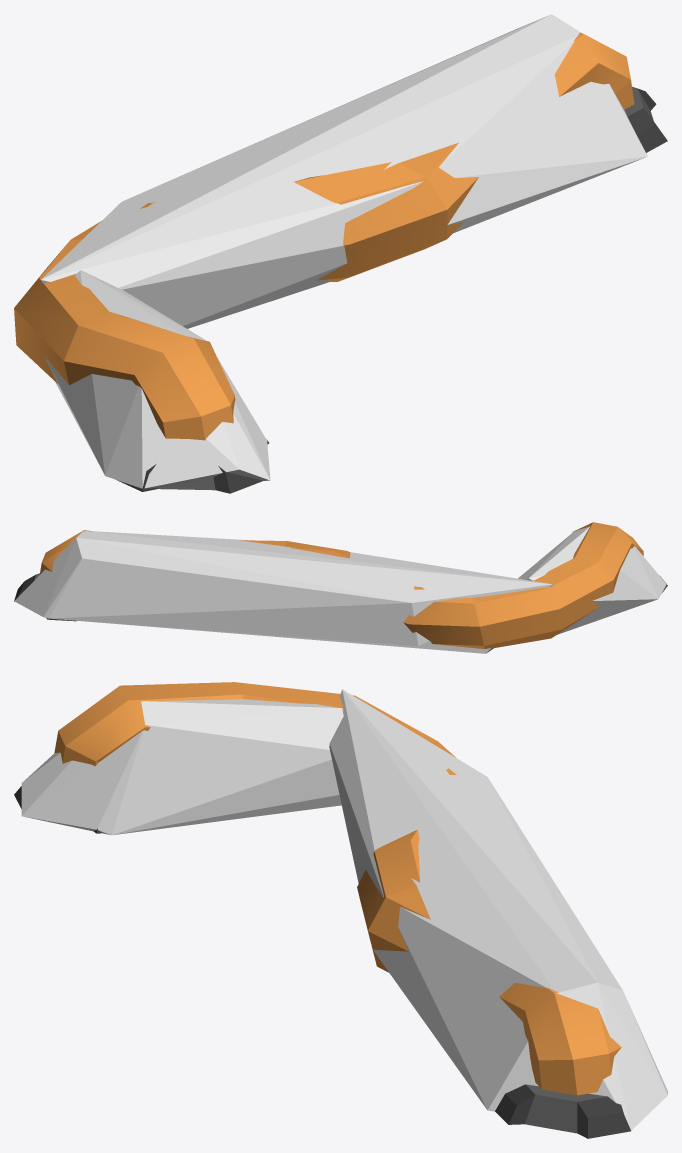
Rendered from SM_Prop_Hose_02.fbx.
3 renders of one model, top to bottom at view 1: azimuth 30°, elevation 25°; view 2: azimuth 150°, elevation 25°; view 3: azimuth 270°, elevation 25°, orthographic. The views are drawn at different scales.
Parts seen in each view (by area): view 1: SM_Prop_Hose_02_ConvexHulls, SM_Prop_Hose_02_LOD0; view 2: SM_Prop_Hose_02_ConvexHulls, SM_Prop_Hose_02_LOD0; view 3: SM_Prop_Hose_02_ConvexHulls, SM_Prop_Hose_02_LOD0.
Boxes of the visible parts, x1=… form: SM_Prop_Hose_02_ConvexHulls: x1=41, y1=14, x2=647, y2=488; SM_Prop_Hose_02_LOD0: x1=14, y1=32, x2=667, y2=493; SM_Prop_Hose_02_ConvexHulls: x1=14, y1=526, x2=666, y2=653; SM_Prop_Hose_02_LOD0: x1=14, y1=522, x2=667, y2=648; SM_Prop_Hose_02_ConvexHulls: x1=21, y1=689, x2=667, y2=1130; SM_Prop_Hose_02_LOD0: x1=14, y1=682, x2=630, y2=1138.
Bounding box in the file's own units: 134 × 184 × 26.18.
1 material, 1 textured.
